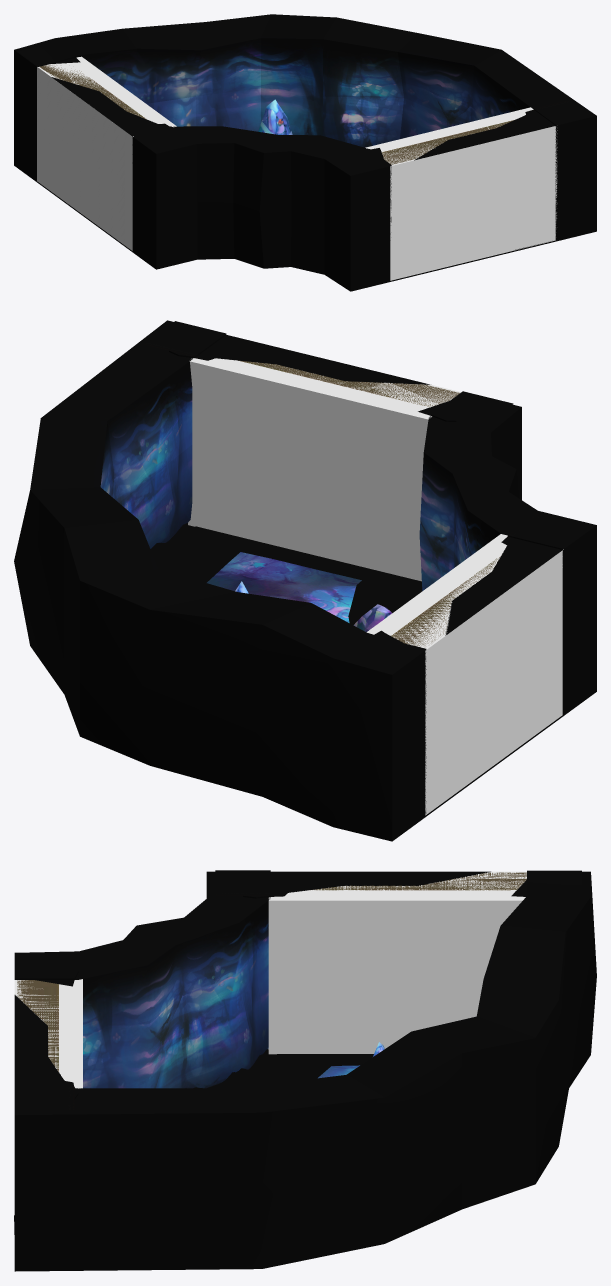
The model's file is Dungeon_052_RoadL_002.fbx.
3 renders of one model, top to bottom at view 1: azimuth 30°, elevation 25°; view 2: azimuth 150°, elevation 25°; view 3: azimuth 270°, elevation 25°, orthographic. The views are drawn at different scales.
Parts seen in each view (by area): view 1: Dan1, DoorWay_NavMask (1) (×2), Dun_011_Door_002_old (×2), Dun_011_Door_003_WarpRoom (×2), Dun_011_Door_002 (×2), Dungeon_011_Object_011; view 2: Dan1, DoorWay_NavMask (1) (×2), Dun_011_Door_002_old (×2), Dan2, Dan1_shadow, Dun_011_Door_003_WarpRoom (×2), Dun_011_Door_002_shadow, Dun_011_Door_002 (×2), DoorWay_NavMask (2); view 3: Dan1, DoorWay_NavMask (1) (×2), Dun_011_Door_002_old (×2), Dun_011_Door_003_WarpRoom (×2), Dun_011_Door_002 (×2), Dan1_shadow, Dun_011_Door_002_shadow, DoorWay_NavMask (2).
Boxes of the visible parts, x1,y1,x2,y2 form: Dan1: [14, 14, 596, 291]; DoorWay_NavMask (1) (×2): [37, 56, 557, 280]; Dun_011_Door_002_old (×2): [18, 46, 590, 238]; Dun_011_Door_003_WarpRoom (×2): [39, 65, 513, 164]; Dun_011_Door_002 (×2): [37, 54, 589, 281]; Dungeon_011_Object_011: [258, 99, 292, 134]; Dan1: [14, 320, 596, 841]; DoorWay_NavMask (1) (×2): [188, 358, 563, 815]; Dun_011_Door_002_old (×2): [143, 321, 591, 712]; Dan2: [207, 552, 361, 622]; Dan1_shadow: [150, 523, 422, 625]; Dun_011_Door_003_WarpRoom (×2): [239, 360, 501, 646]; Dun_011_Door_002_shadow: [195, 526, 421, 585]; Dun_011_Door_002 (×2): [145, 322, 589, 816]; DoorWay_NavMask (2): [372, 382, 438, 410]; Dan1: [14, 871, 596, 1271]; DoorWay_NavMask (1) (×2): [14, 871, 526, 1088]; Dun_011_Door_002_old (×2): [14, 870, 581, 1110]; Dun_011_Door_003_WarpRoom (×2): [17, 872, 526, 1071]; Dun_011_Door_002 (×2): [16, 870, 552, 1110]; Dan1_shadow: [14, 1049, 330, 1234]; Dun_011_Door_002_shadow: [277, 1054, 373, 1066]; DoorWay_NavMask (2): [447, 878, 520, 894].
Size of what is drawn, in the model's own units: 6.75 by 2.08 by 6.83.
